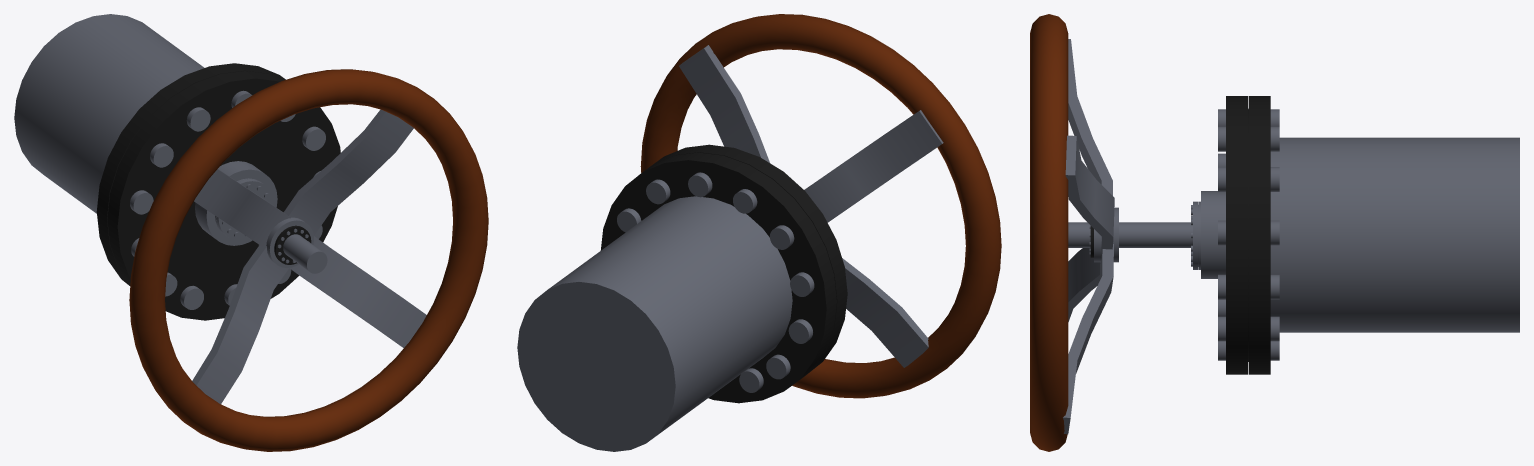
File: wheel.fbx
3 views of the same model, side by side, from view 1: azimuth 30°, elevation 25°; view 2: azimuth 150°, elevation 25°; view 3: azimuth 270°, elevation 25° (orthographic). The views are drawn at different scales.
Parts seen in each view (by area): view 1: wheel.002, joint.013, wheel branches.001, Cylinder.016, bolts.013, Cylinder.011, Cylinder.009, Cylinder.005, joint.012, joint.011; view 2: Cylinder.016, wheel.002, joint.013, wheel branches.001, bolts.013; view 3: Cylinder.016, wheel.002, joint.013, wheel branches.001, bolts.013, Cylinder.009, Cylinder.011, joint.012, Cylinder.005.
Part boxes in pixels (x1,y1,x2,y2): wheel.002: (129, 69, 488, 451); joint.013: (96, 63, 340, 320); wheel branches.001: (192, 109, 426, 404); Cylinder.016: (14, 14, 204, 213); bolts.013: (130, 90, 325, 309); Cylinder.011: (195, 161, 277, 245); Cylinder.009: (283, 234, 327, 273); Cylinder.005: (258, 217, 313, 267); joint.012: (215, 178, 273, 240); joint.011: (274, 225, 311, 264); Cylinder.016: (517, 196, 792, 451); wheel.002: (640, 14, 1001, 398); joint.013: (600, 144, 847, 403); wheel branches.001: (679, 45, 943, 367); bolts.013: (617, 172, 814, 392); Cylinder.016: (1270, 137, 1519, 332); wheel.002: (1030, 14, 1068, 451); joint.013: (1226, 96, 1270, 374); wheel branches.001: (1063, 39, 1114, 434); bolts.013: (1218, 109, 1279, 360); Cylinder.009: (1068, 222, 1192, 247); Cylinder.011: (1201, 191, 1225, 278); joint.012: (1193, 201, 1200, 269); Cylinder.005: (1094, 207, 1118, 262).
Bounding box in the file's own units: 0.92 × 0.92 × 1.03.
